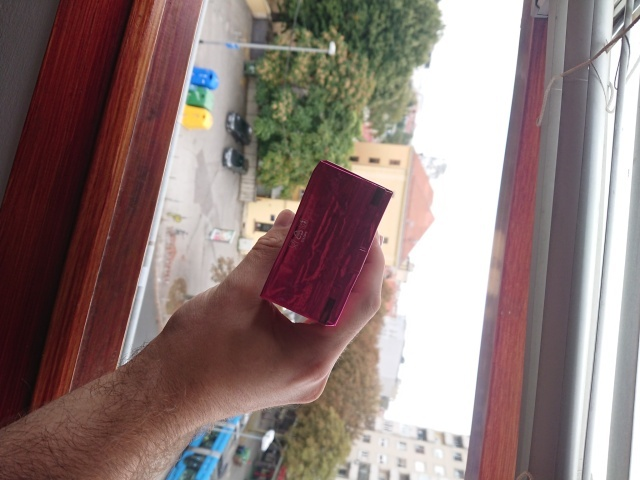Barcaffe Classic Original 225g: (255, 156, 396, 331)
